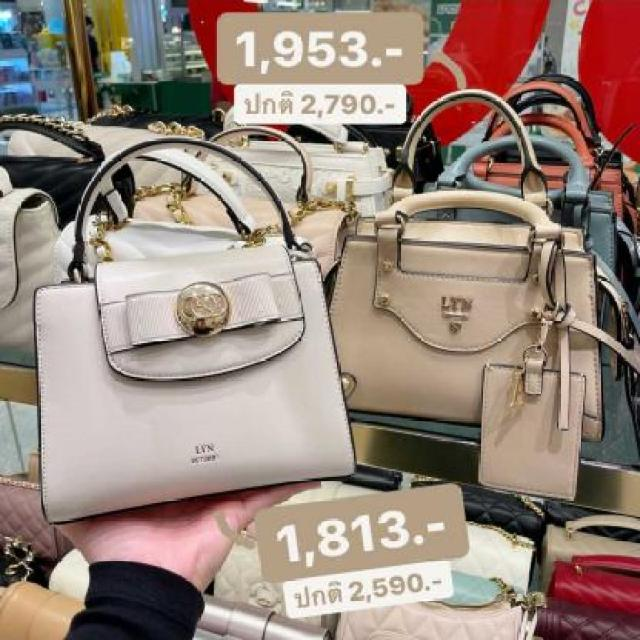Bag: (7, 99, 390, 556), (315, 160, 640, 508)
